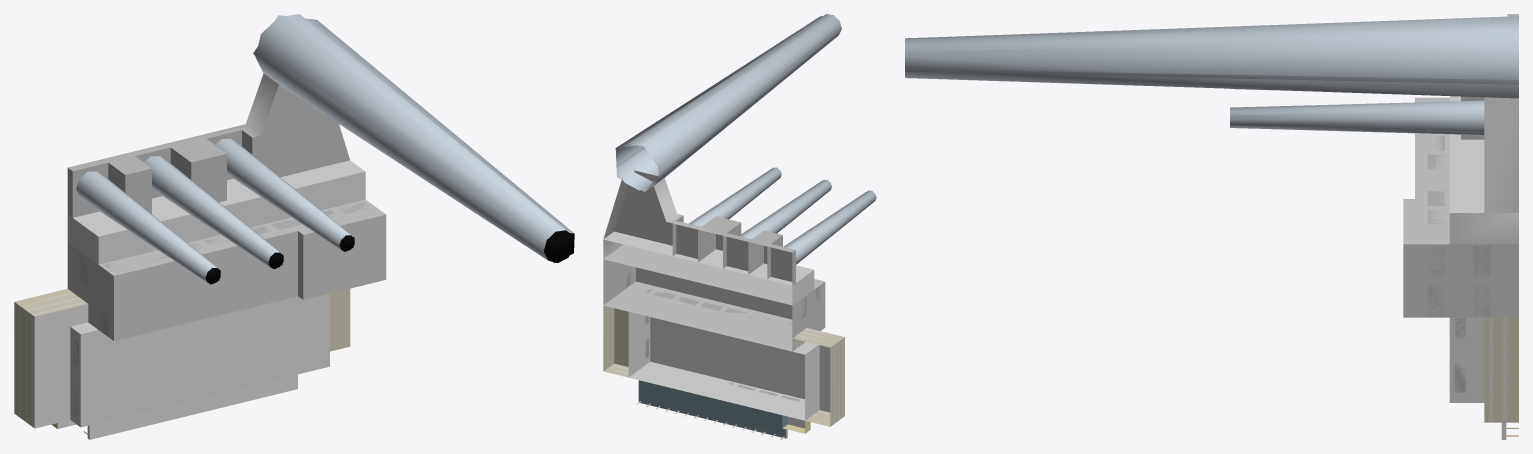
Rendered from power_plant.glb.
3 renders of one model, left to right at view 1: azimuth 30°, elevation 25°; view 2: azimuth 150°, elevation 25°; view 3: azimuth 270°, elevation 25°, orthographic. The views are drawn at different scales.
Parts seen in each view (by area): view 1: db_fosslfuel_g6_newLOD_LOD child0_o4_p4_Geometry_0.001, db_fosslfuel_g2_newLOD_LOD child0_o2_p2_Geometry_1.001, db_fosslfuel_g10_newLOD_LOD child0_o9_p112_Geometry_0.001, db_fosslfuel_g16_newLOD_LOD child0_o8_p8_Geometry_0.001, db_fosslfuel_g2_newLOD_LOD child0_o14_p343_Geometry_0.001, db_fosslfuel_g5_l3_LOD child0_o3_p3_Geometry_0.001, db_fosslfuel_g6_newLOD_LOD child0_o15_p368_Geometry_0.001, db_fosslfuel_g10_newLOD_LOD child0_o25_p604_Geometry_0.001, db_fosslfuel_g7_newLOD_LOD child0_o5_p5_Geometry_0.001, db_fosslfuel_g11_newLOD_LOD child0_o11_p93_Geometry_0.001, db_fosslfuel_g18_newLOD_LOD child0_o27_p615_Geometry_0.001, db_fosslfuel_g17_newLOD_LOD child0_o29_p631_Geometry_0.001 (+11 smaller); view 2: db_fosslfuel_g2_newLOD_LOD child0_o14_p343_Geometry_0.001, db_fosslfuel_g10_newLOD_LOD child0_o9_p112_Geometry_0.001, db_fosslfuel_g6_newLOD_LOD child0_o4_p4_Geometry_0.001, db_fosslfuel_g16_newLOD_LOD child0_o8_p8_Geometry_0.001, db_fosslfuel_g6_newLOD_LOD child0_o15_p368_Geometry_0.001, db_fosslfuel_g2_newLOD_LOD child0_o2_p2_Geometry_1.001, db_fosslfuel_g10_newLOD_LOD child0_o25_p604_Geometry_0.001, db_fosslfuel_g8_newLOD_LOD child0_o6_p47_Geometry_0.001, db_fosslfuel_g5_l3_LOD child0_o3_p3_Geometry_0.001, db_fosslfuel_g7_newLOD_LOD child0_o5_p32_Geometry_0.001, db_fosslfuel_g9_newLOD_LOD child0_o16_p328_Geometry_0.001, db_fosslfuel_g11_newLOD_LOD child0_o11_p93_Geometry_0.001 (+10 smaller); view 3: db_fosslfuel_g10_newLOD_LOD child0_o25_p604_Geometry_0.001, db_fosslfuel_g2_newLOD_LOD child0_o2_p2_Geometry_1.001, db_fosslfuel_g10_newLOD_LOD child0_o9_p112_Geometry_0.001, db_fosslfuel_g17_newLOD_LOD child0_o29_p631_Geometry_0.001, db_fosslfuel_g5_l3_LOD child0_o3_p3_Geometry_0.001, db_fosslfuel_g2_newLOD_LOD child0_o14_p343_Geometry_0.001, db_fosslfuel_g16_newLOD_LOD child0_o8_p8_Geometry_0.001, db_fosslfuel_g9_newLOD_LOD child0_o16_p328_Geometry_0.001, db_fosslfuel_g6_newLOD_LOD child0_o4_p4_Geometry_0.001, db_fosslfuel_g17_newLOD_LOD child0_o30_p642_Geometry_0.001, db_fosslfuel_g2_newLOD_LOD child0_o2_p694_Geometry_0.001, db_fosslfuel_g6_newLOD_LOD child0_o15_p368_Geometry_0.001 (+1 smaller).
Part boxes in pixels (x1,y1,x2,y2): db_fosslfuel_g6_newLOD_LOD child0_o4_p4_Geometry_0.001: (70, 293, 329, 427); db_fosslfuel_g2_newLOD_LOD child0_o2_p2_Geometry_1.001: (67, 200, 386, 340); db_fosslfuel_g10_newLOD_LOD child0_o9_p112_Geometry_0.001: (255, 14, 565, 260); db_fosslfuel_g16_newLOD_LOD child0_o8_p8_Geometry_0.001: (67, 73, 349, 217); db_fosslfuel_g2_newLOD_LOD child0_o14_p343_Geometry_0.001: (67, 199, 379, 340); db_fosslfuel_g5_l3_LOD child0_o3_p3_Geometry_0.001: (67, 160, 365, 264); db_fosslfuel_g6_newLOD_LOD child0_o15_p368_Geometry_0.001: (70, 294, 329, 426); db_fosslfuel_g10_newLOD_LOD child0_o25_p604_Geometry_0.001: (253, 15, 574, 262); db_fosslfuel_g7_newLOD_LOD child0_o5_p5_Geometry_0.001: (34, 304, 88, 428); db_fosslfuel_g11_newLOD_LOD child0_o11_p93_Geometry_0.001: (76, 171, 216, 281); db_fosslfuel_g18_newLOD_LOD child0_o27_p615_Geometry_0.001: (144, 156, 279, 266); db_fosslfuel_g17_newLOD_LOD child0_o29_p631_Geometry_0.001: (215, 138, 350, 249); db_fosslfuel_g2_newLOD_LOD child0_o14_p343_Geometry_0.001: (603, 244, 823, 351); db_fosslfuel_g10_newLOD_LOD child0_o9_p112_Geometry_0.001: (616, 14, 841, 190); db_fosslfuel_g6_newLOD_LOD child0_o4_p4_Geometry_0.001: (629, 314, 804, 420); db_fosslfuel_g16_newLOD_LOD child0_o8_p8_Geometry_0.001: (603, 170, 795, 285); db_fosslfuel_g6_newLOD_LOD child0_o15_p368_Geometry_0.001: (628, 312, 819, 420); db_fosslfuel_g2_newLOD_LOD child0_o2_p2_Geometry_1.001: (603, 259, 825, 351); db_fosslfuel_g10_newLOD_LOD child0_o25_p604_Geometry_0.001: (615, 15, 841, 191); db_fosslfuel_g8_newLOD_LOD child0_o6_p47_Geometry_0.001: (638, 380, 786, 438); db_fosslfuel_g5_l3_LOD child0_o3_p3_Geometry_0.001: (603, 231, 814, 305); db_fosslfuel_g7_newLOD_LOD child0_o5_p32_Geometry_0.001: (792, 328, 844, 426); db_fosslfuel_g9_newLOD_LOD child0_o16_p328_Geometry_0.001: (603, 305, 628, 377); db_fosslfuel_g11_newLOD_LOD child0_o11_p93_Geometry_0.001: (784, 190, 876, 264); db_fosslfuel_g10_newLOD_LOD child0_o25_p604_Geometry_0.001: (905, 16, 1518, 98); db_fosslfuel_g2_newLOD_LOD child0_o2_p2_Geometry_1.001: (1403, 97, 1518, 317); db_fosslfuel_g10_newLOD_LOD child0_o9_p112_Geometry_0.001: (905, 23, 1518, 86); db_fosslfuel_g17_newLOD_LOD child0_o29_p631_Geometry_0.001: (1230, 102, 1484, 135); db_fosslfuel_g5_l3_LOD child0_o3_p3_Geometry_0.001: (1449, 96, 1518, 244); db_fosslfuel_g2_newLOD_LOD child0_o14_p343_Geometry_0.001: (1415, 97, 1518, 317); db_fosslfuel_g16_newLOD_LOD child0_o8_p8_Geometry_0.001: (1461, 14, 1518, 212); db_fosslfuel_g9_newLOD_LOD child0_o16_p328_Geometry_0.001: (1484, 317, 1518, 422); db_fosslfuel_g6_newLOD_LOD child0_o4_p4_Geometry_0.001: (1449, 317, 1484, 402); db_fosslfuel_g17_newLOD_LOD child0_o30_p642_Geometry_0.001: (1230, 100, 1484, 134); db_fosslfuel_g2_newLOD_LOD child0_o2_p694_Geometry_0.001: (1427, 99, 1490, 316); db_fosslfuel_g6_newLOD_LOD child0_o15_p368_Geometry_0.001: (1449, 317, 1484, 402).
Size of the model in its own units: 180 by 199 by 265.
